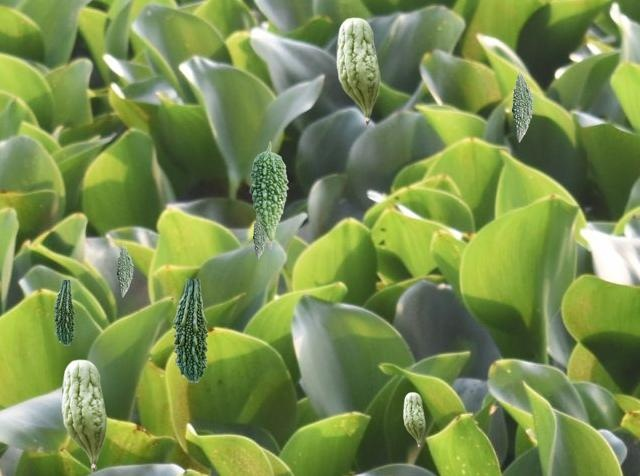ampalaya: (61, 359, 106, 471), (336, 17, 379, 124), (249, 141, 287, 248), (172, 279, 207, 381), (512, 67, 532, 141), (53, 280, 74, 344), (403, 392, 424, 447), (117, 241, 132, 296), (253, 215, 266, 258)
